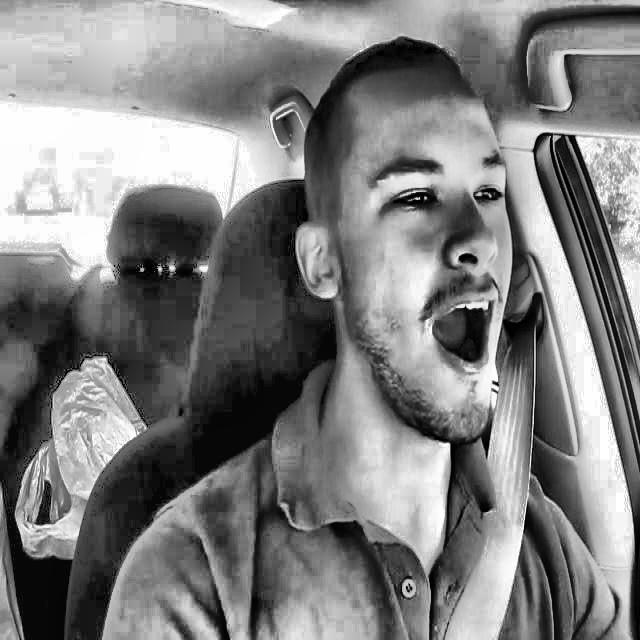open_eyes: (365, 179, 442, 225), (461, 175, 516, 217)
open_mouth: (412, 277, 508, 385)
